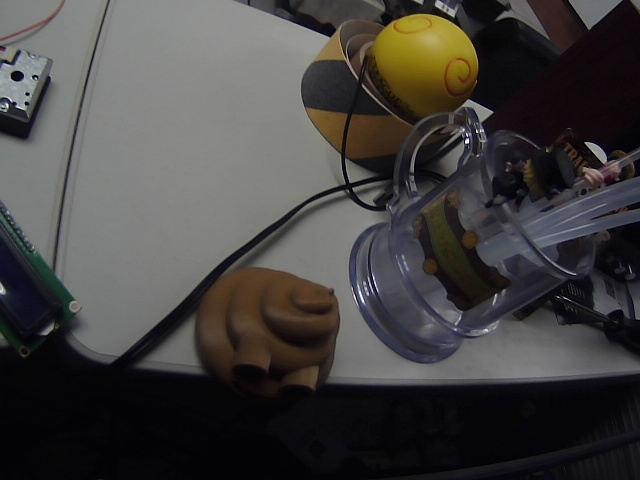shit: (189, 263, 354, 414)
